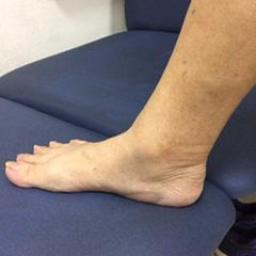Medial View -Right Foot-: (2, 77, 234, 213)
